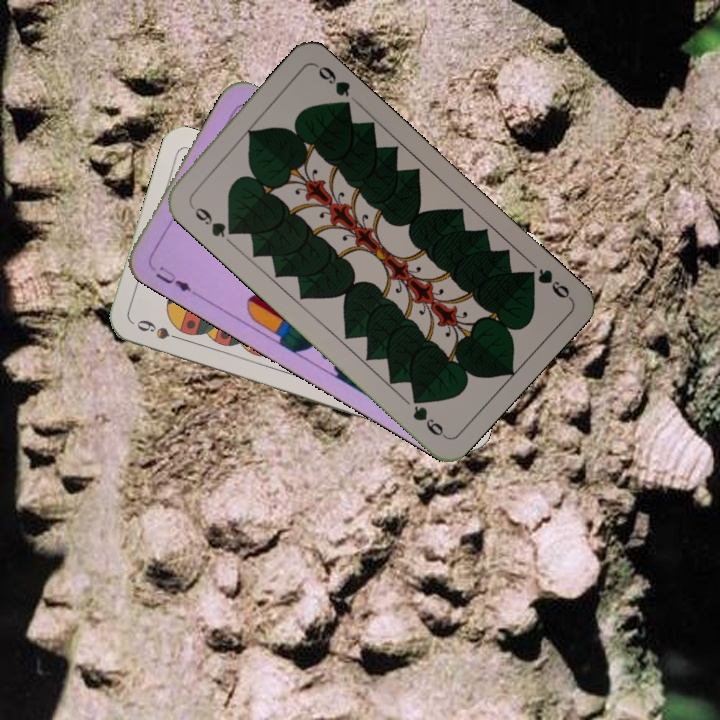EU: (151, 262, 200, 299)
G9: (185, 199, 239, 241), (519, 264, 573, 302)
S9: (132, 315, 189, 344)
